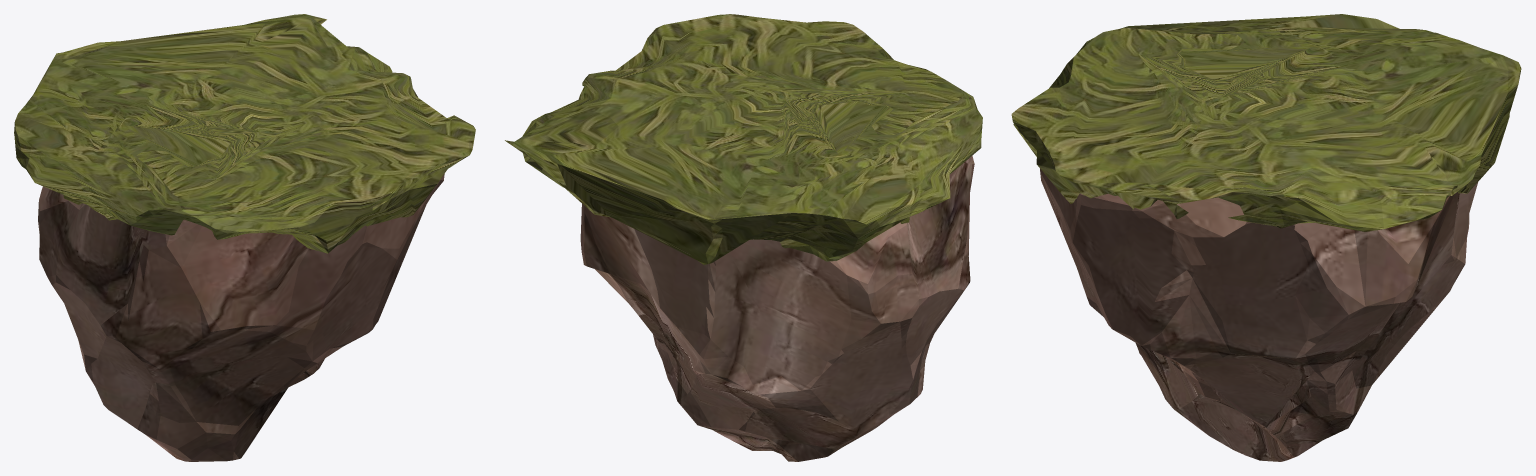
Rendered from platform05.fbx.
The picture shows the model from 3 angles, left to right: view 1: azimuth 30°, elevation 25°; view 2: azimuth 150°, elevation 25°; view 3: azimuth 270°, elevation 25°; orthographic projection. The views are drawn at different scales.
Parts seen in each view (by area): view 1: platform05; view 2: platform05; view 3: platform05.
Boxes of the visible parts, left/top/right/bottom form: platform05: left=14, top=14, right=475, bottom=461; platform05: left=505, top=14, right=982, bottom=461; platform05: left=1011, top=14, right=1521, bottom=461.
Size of the model in its own units: 5.26 by 5.47 by 4.35.
